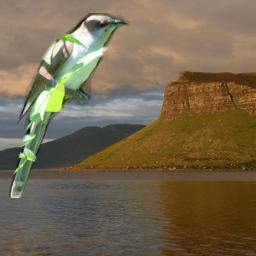Cuckoo: (9, 13, 130, 198)
